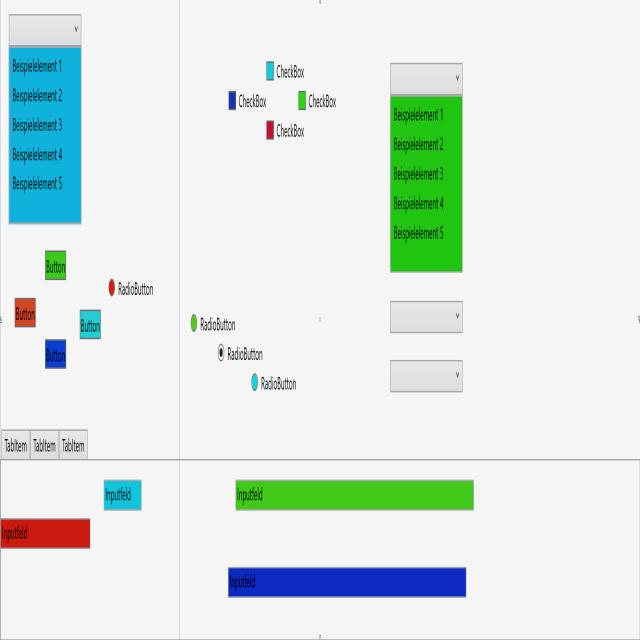button: (79, 305, 102, 343), (44, 246, 67, 283), (13, 295, 37, 330), (44, 335, 66, 371)
checkbox: (228, 88, 237, 112), (266, 118, 274, 144), (266, 60, 275, 82), (298, 88, 306, 112)
dropdownMenu: (388, 54, 464, 280), (7, 8, 84, 230), (388, 295, 464, 339), (388, 354, 464, 397)
input: (228, 564, 468, 601), (235, 476, 475, 512), (0, 515, 92, 551), (103, 477, 142, 512)
label: (260, 372, 298, 397), (118, 276, 156, 301), (228, 342, 264, 367), (200, 313, 237, 336), (276, 117, 306, 144), (308, 90, 338, 113), (276, 58, 306, 81), (238, 88, 267, 109)
menuItem: (392, 189, 447, 219), (11, 170, 65, 198), (12, 52, 65, 80), (394, 221, 446, 249), (393, 102, 446, 127), (393, 132, 447, 156), (392, 160, 447, 183), (12, 143, 65, 166), (12, 84, 64, 107), (12, 116, 65, 138)
radio: (217, 340, 225, 366), (251, 369, 258, 396), (108, 275, 116, 298), (190, 310, 197, 336)
tabControl: (0, 421, 92, 463)
